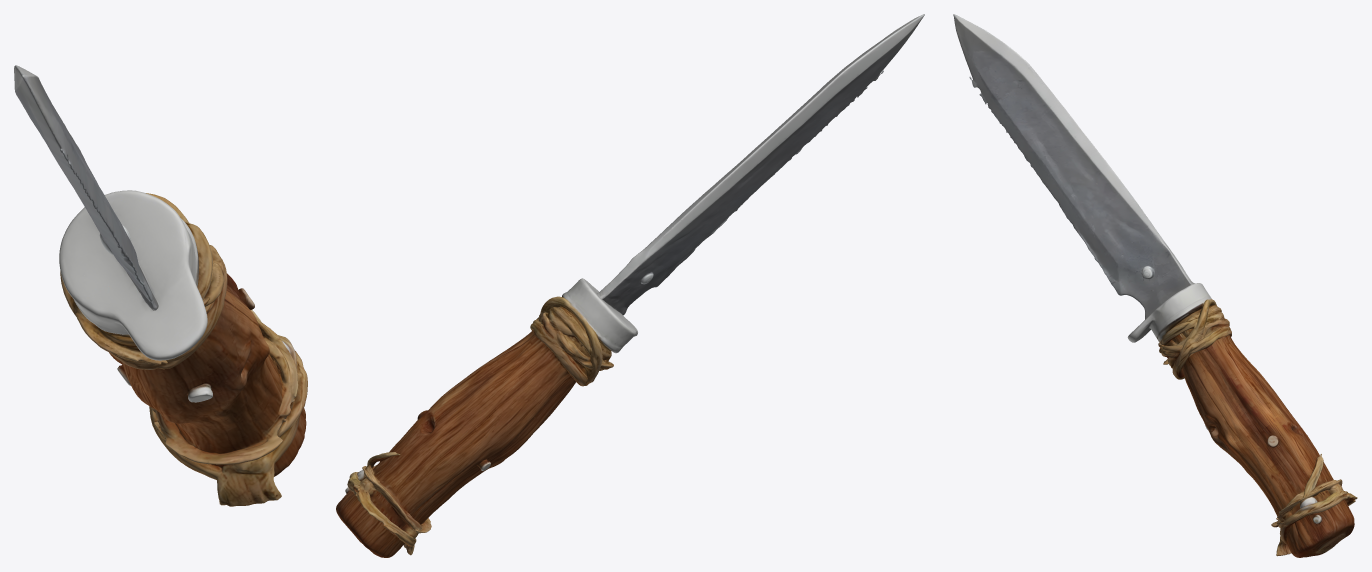
3 views of the same model, side by side, from view 1: azimuth 30°, elevation 25°; view 2: azimuth 150°, elevation 25°; view 3: azimuth 270°, elevation 25° (orthographic). The views are drawn at different scales.
Visible parts, largest first — view 1: tripo_node_ddef66c2-5fc7-4066-b87f-5152ef49d298; view 2: tripo_node_ddef66c2-5fc7-4066-b87f-5152ef49d298; view 3: tripo_node_ddef66c2-5fc7-4066-b87f-5152ef49d298.
Boxes of the visible parts, bbox=[...] form: tripo_node_ddef66c2-5fc7-4066-b87f-5152ef49d298: bbox=[14, 65, 307, 506]; tripo_node_ddef66c2-5fc7-4066-b87f-5152ef49d298: bbox=[336, 14, 924, 557]; tripo_node_ddef66c2-5fc7-4066-b87f-5152ef49d298: bbox=[953, 14, 1357, 557].
Size of the model in its own units: 0.8247 by 1 by 0.9025.
Materials: 1 (1 with a texture image).
